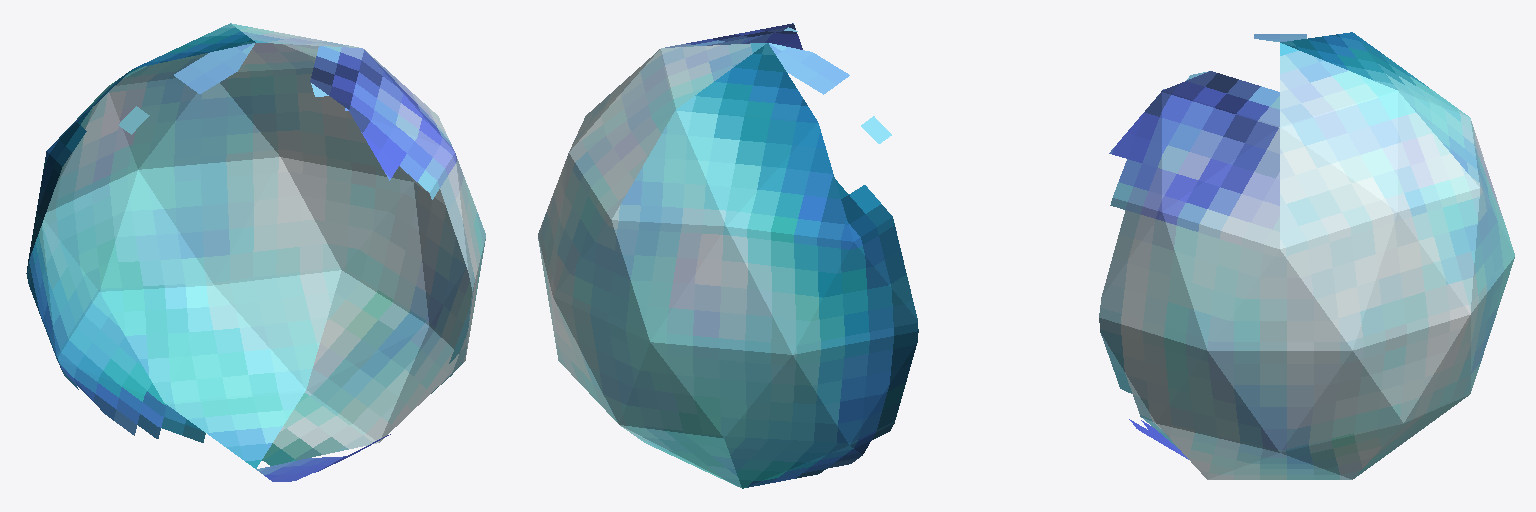
3 renders of one model, left to right at view 1: azimuth 30°, elevation 25°; view 2: azimuth 150°, elevation 25°; view 3: azimuth 270°, elevation 25°, orthographic.
Parts seen in each view (by area): view 1: Icosphere; view 2: Icosphere; view 3: Icosphere.
Part boxes in pixels (left/top/right/bottom): Icosphere: left=26, top=23, right=485, bottom=481; Icosphere: left=538, top=23, right=918, bottom=488; Icosphere: left=1099, top=32, right=1514, bottom=479.
Size of the model in its own units: 1.9 by 2 by 2.
Materials: 1 (1 with a texture image).